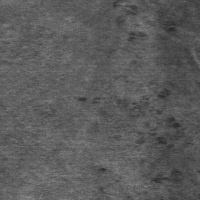rolled-in_scale: (118, 82, 191, 194), (112, 1, 152, 46)
